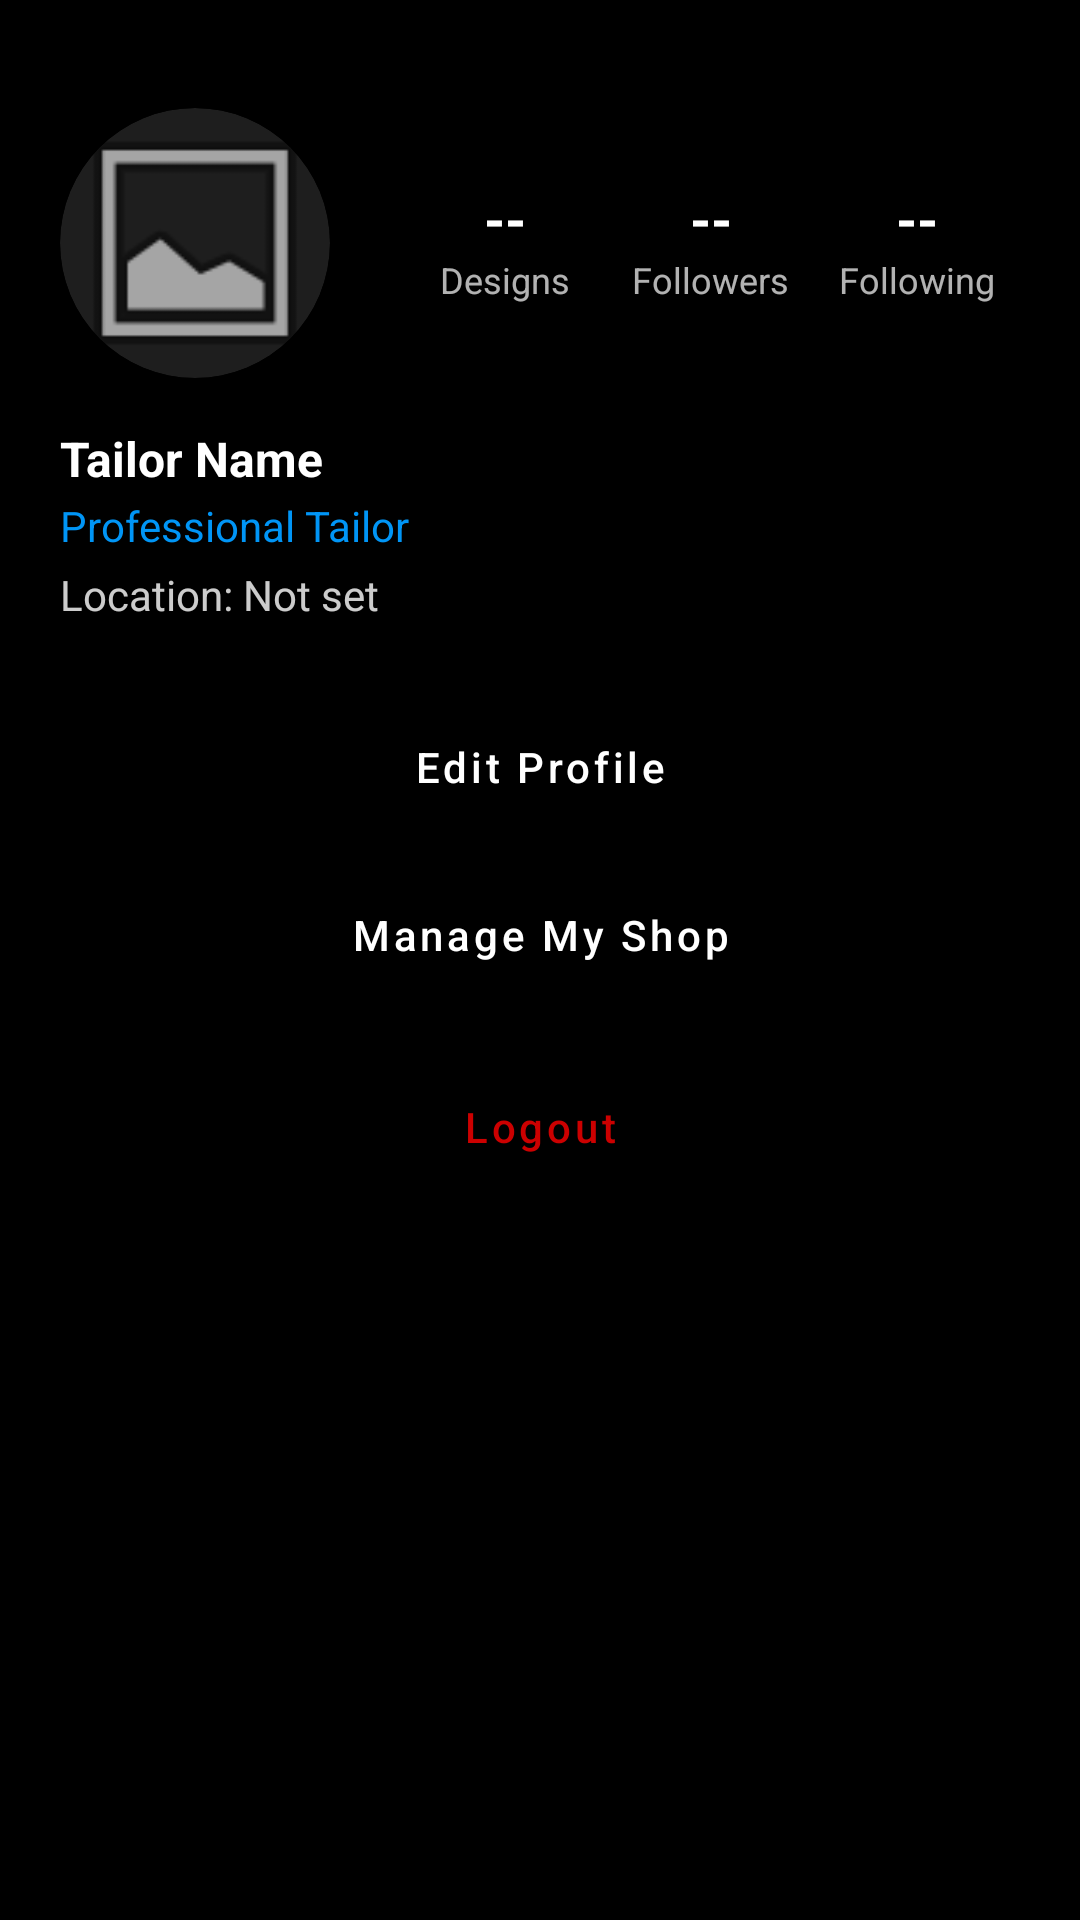

Icon click points for this 1080×1920 phone screenshot, format (x=x, y=y):
gallery: (x=195, y=243)
